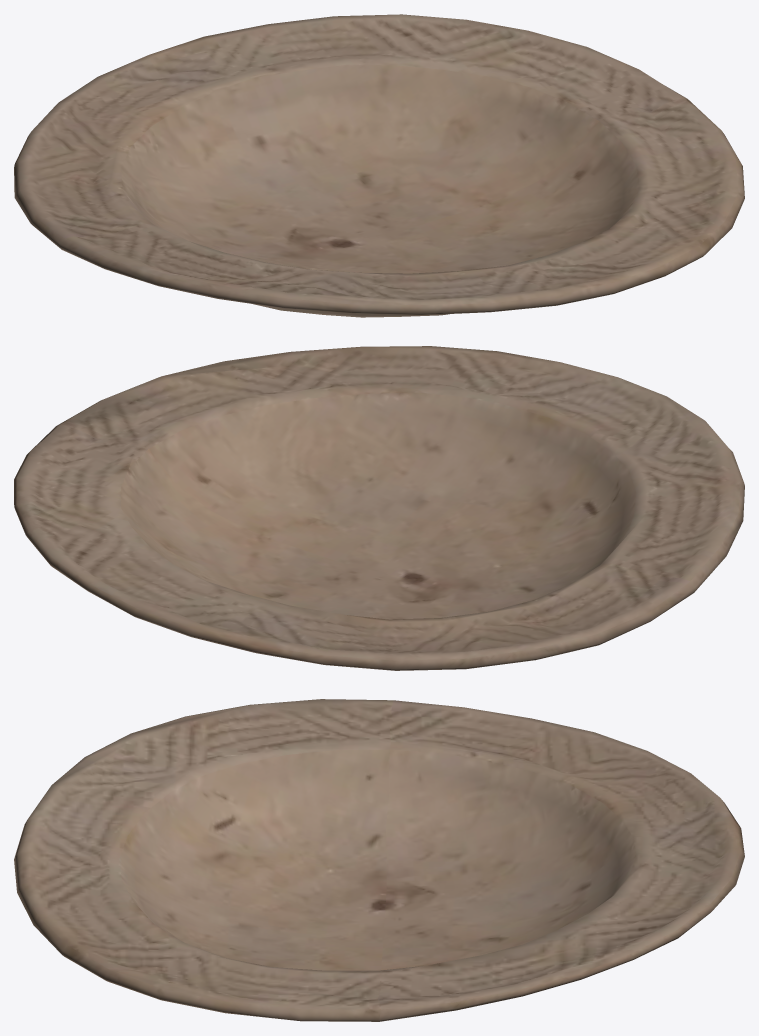
File: carved_wooden_plate.glb
The picture shows the model from 3 angles, top to bottom: view 1: azimuth 30°, elevation 25°; view 2: azimuth 150°, elevation 25°; view 3: azimuth 270°, elevation 25°; orthographic projection. The views are drawn at different scales.
Parts seen in each view (by area): view 1: carved_wooden_plate; view 2: carved_wooden_plate; view 3: carved_wooden_plate.
Part boxes in pixels (<box>): carved_wooden_plate: <box>14,14,744,317</box>; carved_wooden_plate: <box>14,346,744,670</box>; carved_wooden_plate: <box>14,699,744,1021</box>.
Bounding box in the file's own units: 0.2718 × 0.0377 × 0.2688.
Materials: 1 (1 with a texture image).
